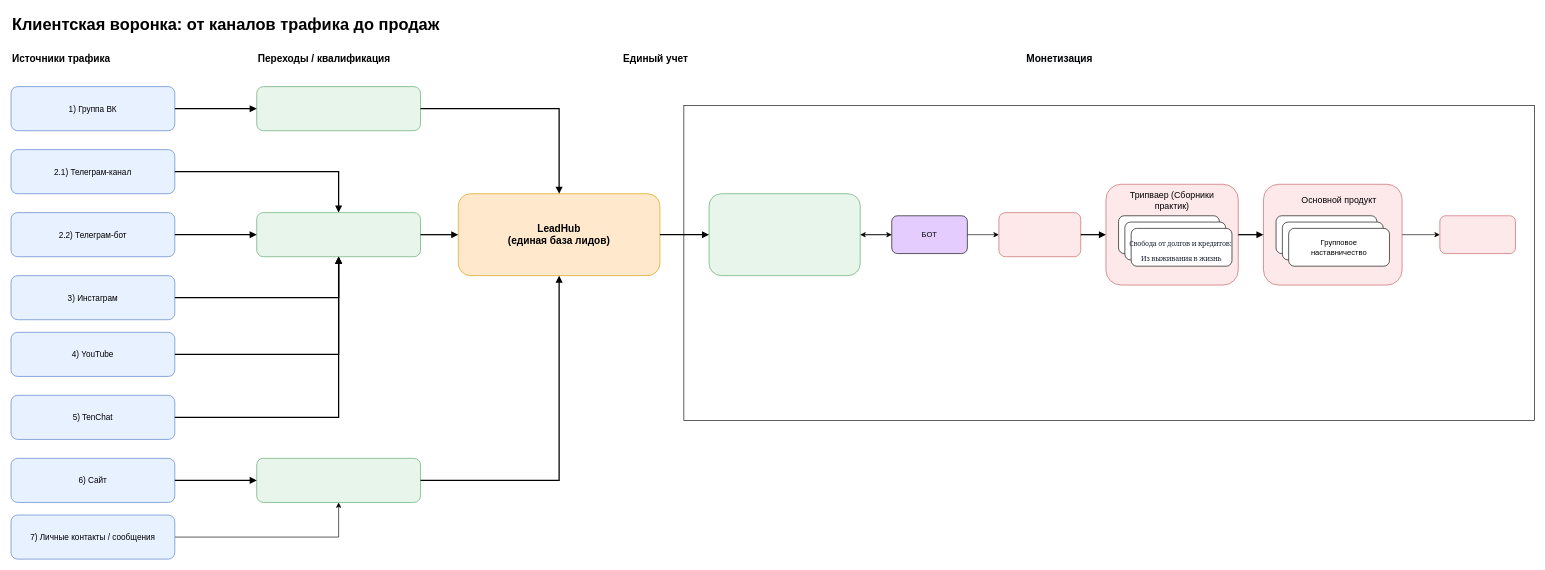
The diagram is 1545 pixels wide and 570 high, and some of its shapes have lost their labels. The shapes that lost their labels are listed below. From the top down, each one's centre as x and y in pixels, then its label:
[338,108]: SenlerBot
[338,234]: Квиз на сайте
[784,234]: CRM
[1039,234]: Автоворонки прогрева
[1477,234]: LTV (Допродажи)
[338,480]: Квиз на сайте или CTA
